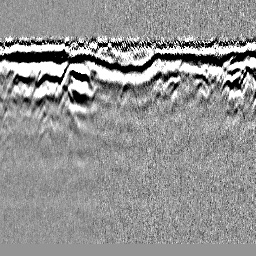cavity: (117, 74, 139, 109)
